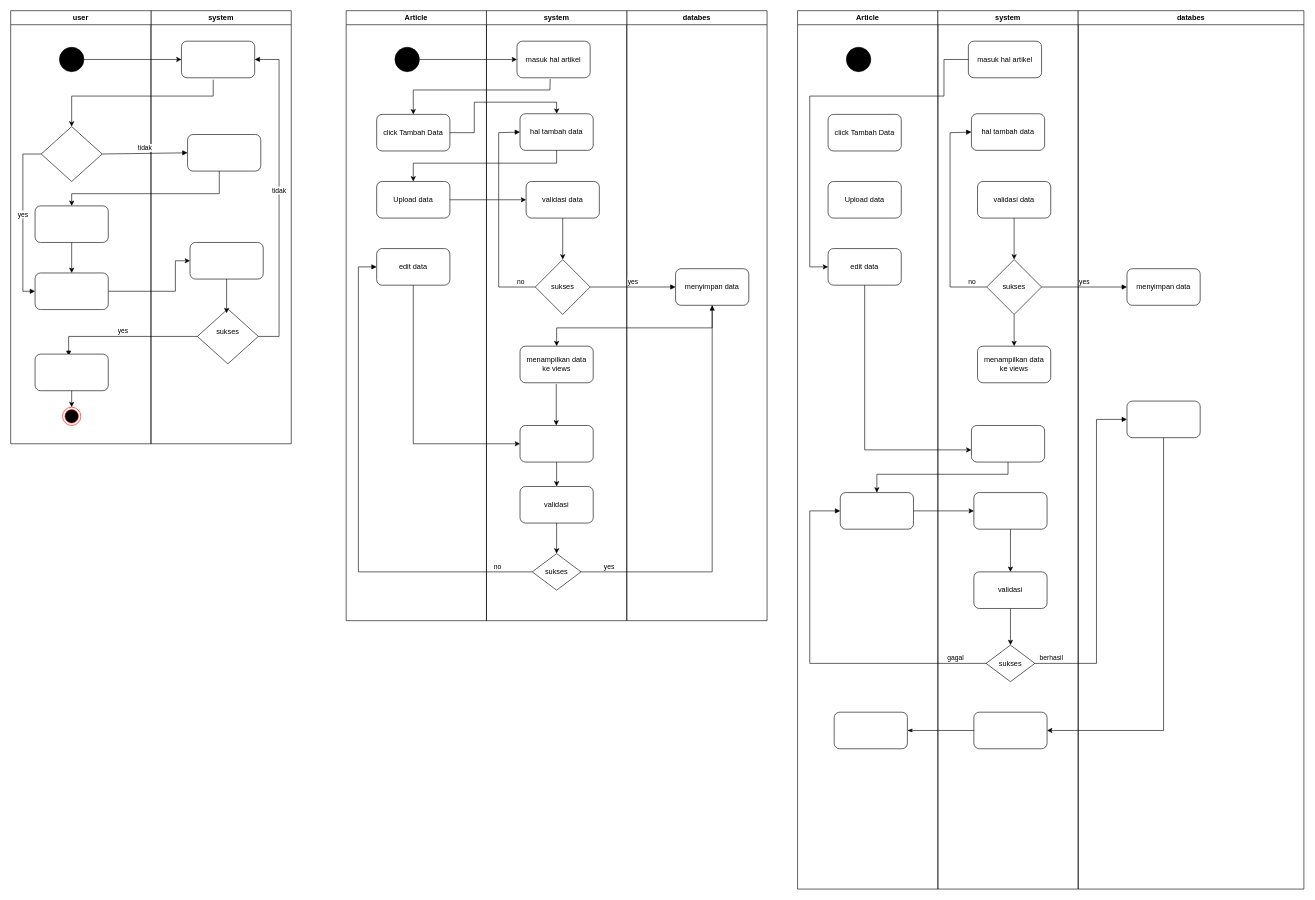
The diagram is 1315 pixels wide and 900 high, and some of its shapes have lost their labels. The centre of each missing label's shape, as x and y in pixels:
"check id dan pw" belongs at pixel 226 260.
"dashboard" belongs at pixel 71 372.
"form edit" belongs at pixel 876 510.
"form login" belongs at pixel 218 59.
"hapus data" belongs at pixel 870 730.
"hasil add data" belongs at pixel 556 443.
"isi data" belongs at pixel 71 223.
"masukan id dan pw" belongs at pixel 71 291.
"memperbarui data" belongs at pixel 1163 419.
"pilih data" belongs at pixel 1008 443.
"proses edit" belongs at pixel 1010 510.
"punya akun atau tidak" belongs at pixel 71 153.
"registrasi akun" belongs at pixel 224 152.
"tampil data yang sudah di perbarui" belongs at pixel 1010 730.
